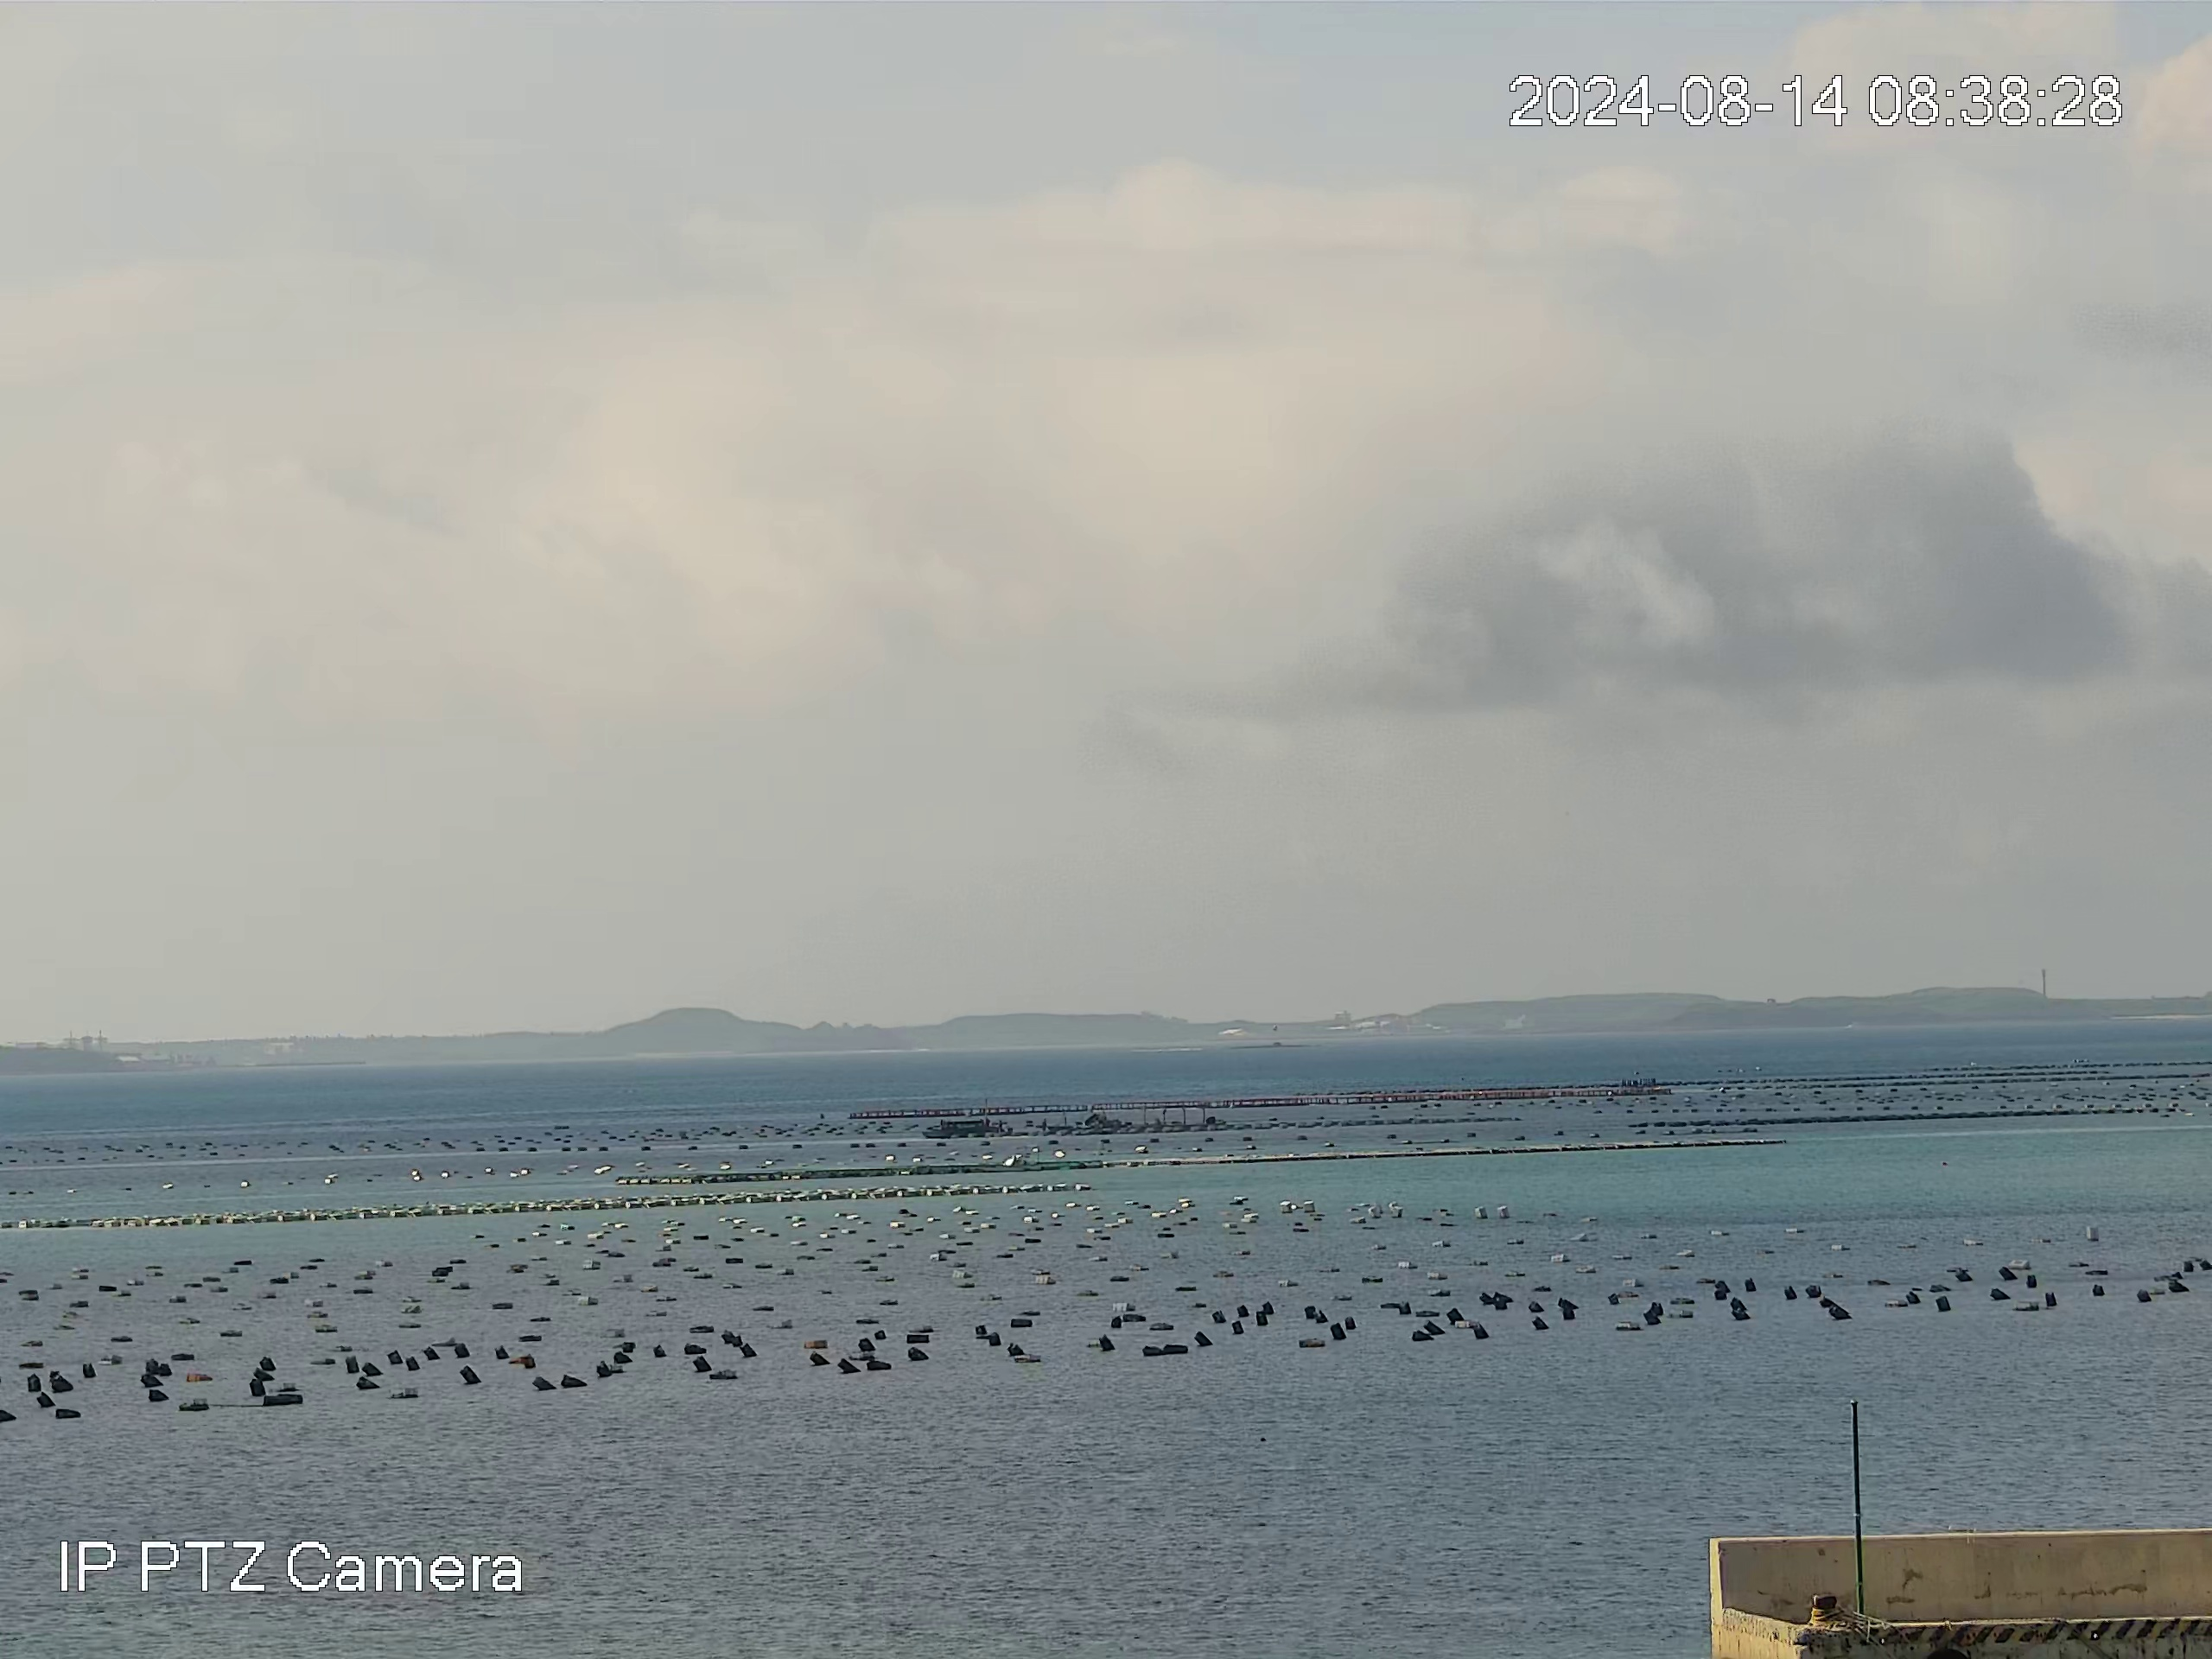boat: (921, 1117, 1005, 1138)
